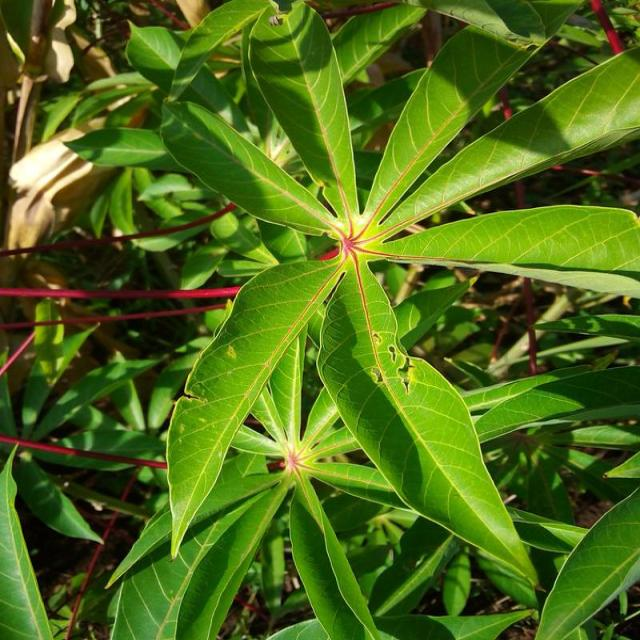cassava leaf: (64, 0, 640, 638), (316, 256, 541, 604), (166, 254, 347, 560)
